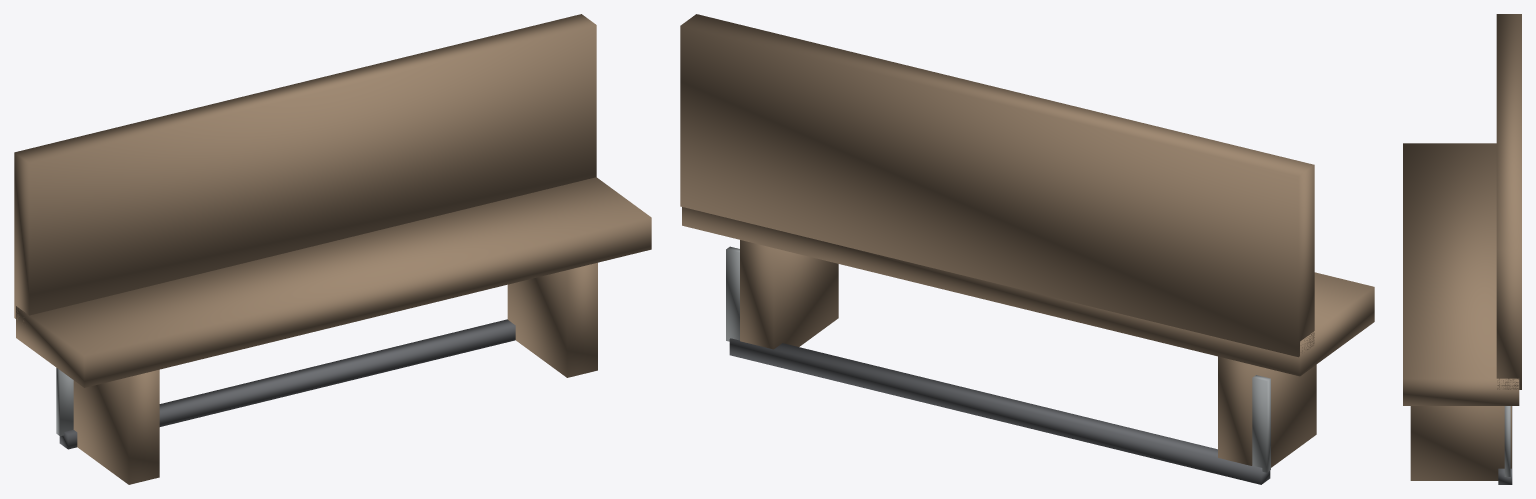
File: church_pew__reinforced.glb
3 renders of one model, left to right at view 1: azimuth 30°, elevation 25°; view 2: azimuth 150°, elevation 25°; view 3: azimuth 270°, elevation 25°, orthographic. The views are drawn at different scales.
Parts seen in each view (by area): view 1: world; view 2: world; view 3: world.
Boxes of the visible parts, x1,y1,x2,y2 form: world: (14, 14, 651, 484); world: (680, 14, 1374, 484); world: (1403, 14, 1521, 484).
Size of the model in its own units: 2.27 by 1.13 by 0.4841.
